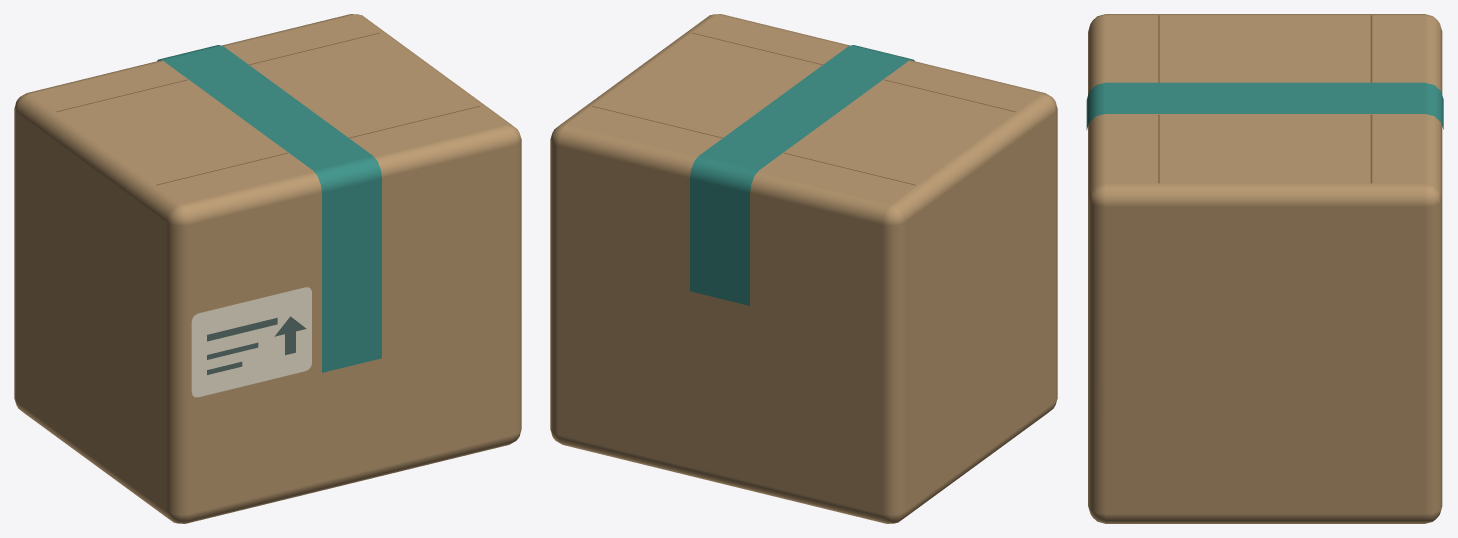
The model's file is Delivery_Box_01_Compact.fbx.
The picture shows the model from 3 angles, left to right: view 1: azimuth 30°, elevation 25°; view 2: azimuth 150°, elevation 25°; view 3: azimuth 270°, elevation 25°; orthographic projection. The views are drawn at different scales.
Parts seen in each view (by area): view 1: Delivery_Box_01_Compact_Mesh; view 2: Delivery_Box_01_Compact_Mesh; view 3: Delivery_Box_01_Compact_Mesh.
Part boxes in pixels (<box>): Delivery_Box_01_Compact_Mesh: <box>14,14,521,523</box>; Delivery_Box_01_Compact_Mesh: <box>550,14,1057,523</box>; Delivery_Box_01_Compact_Mesh: <box>1086,14,1443,523</box>.
Bounding box in the file's own units: 0.44 × 0.3815 × 0.3635.
